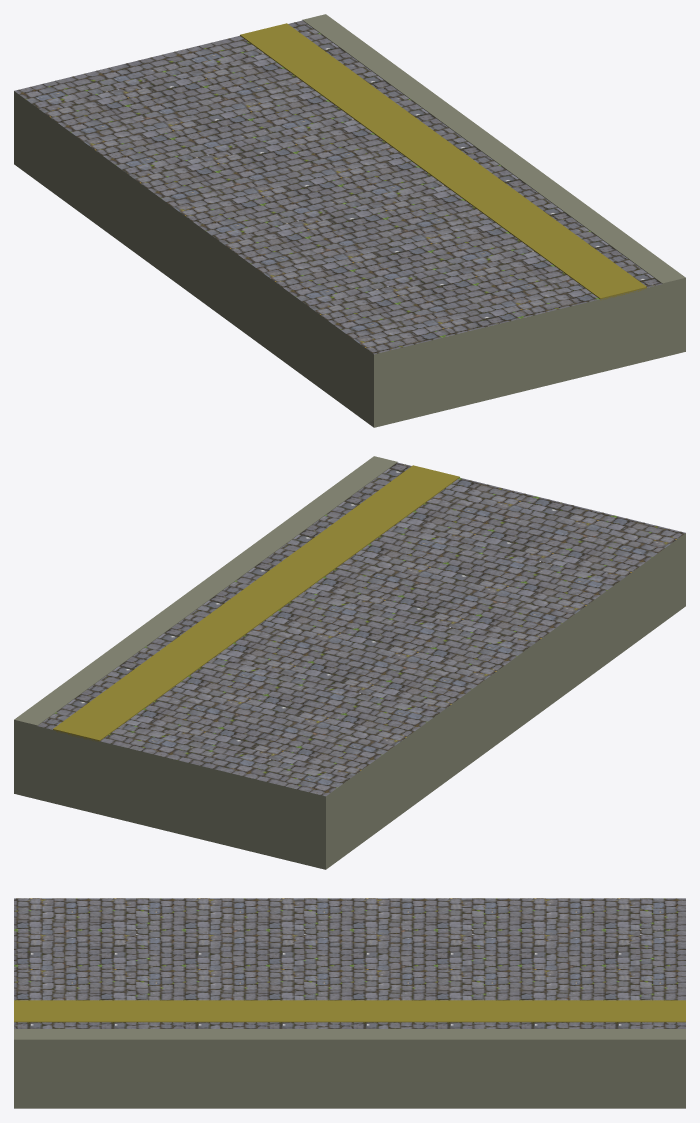
The model's file is lrt_platform.fbx.
The picture shows the model from 3 angles, top to bottom: view 1: azimuth 30°, elevation 25°; view 2: azimuth 150°, elevation 25°; view 3: azimuth 270°, elevation 25°; orthographic projection. The views are drawn at different scales.
Parts seen in each view (by area): view 1: lrt_platform.001; view 2: lrt_platform.001; view 3: lrt_platform.001.
Boxes of the visible parts, x1,y1,x2,y2 form: lrt_platform.001: [14, 14, 685, 427]; lrt_platform.001: [14, 456, 685, 869]; lrt_platform.001: [14, 898, 685, 1108].
Bounding box in the file's own units: 2 × 0.456 × 4.
